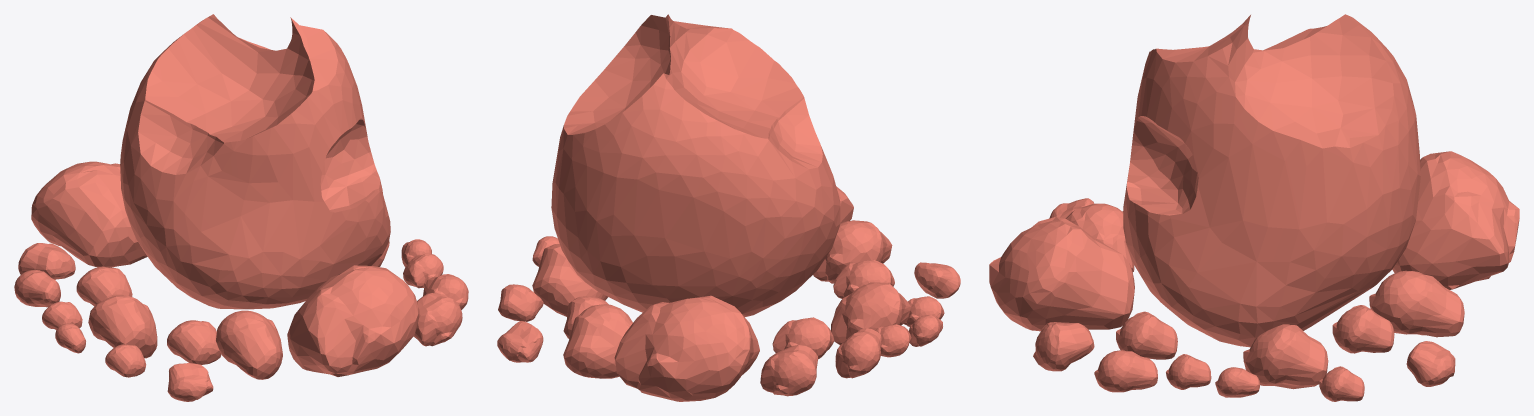
The model's file is rounded-rocks.fbx.
3 renders of one model, left to right at view 1: azimuth 30°, elevation 25°; view 2: azimuth 150°, elevation 25°; view 3: azimuth 270°, elevation 25°, orthographic. The views are drawn at different scales.
Visible parts, largest first — view 1: Cube.227; view 2: Cube.227; view 3: Cube.227.
Boxes of the visible parts, bbox=[...] form: Cube.227: bbox=[14, 14, 468, 401]; Cube.227: bbox=[497, 14, 960, 401]; Cube.227: bbox=[989, 14, 1519, 401].
Bounding box in the file's own units: 299 × 222 × 315.
